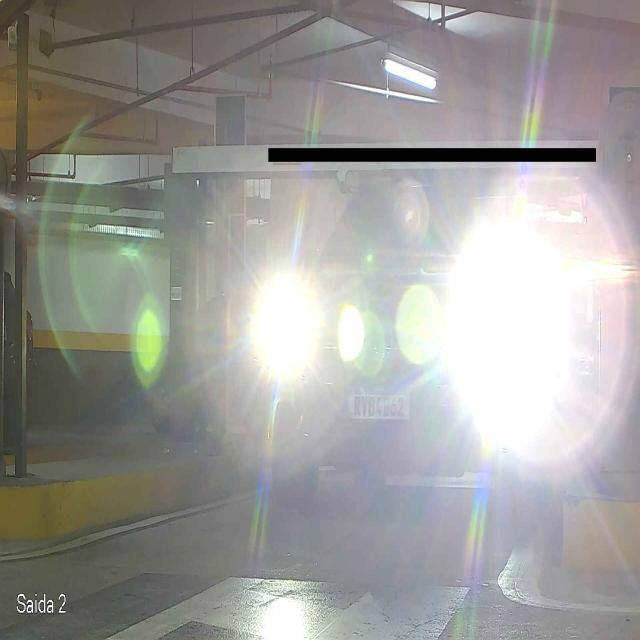mercosul_plate: (347, 384, 412, 420)
